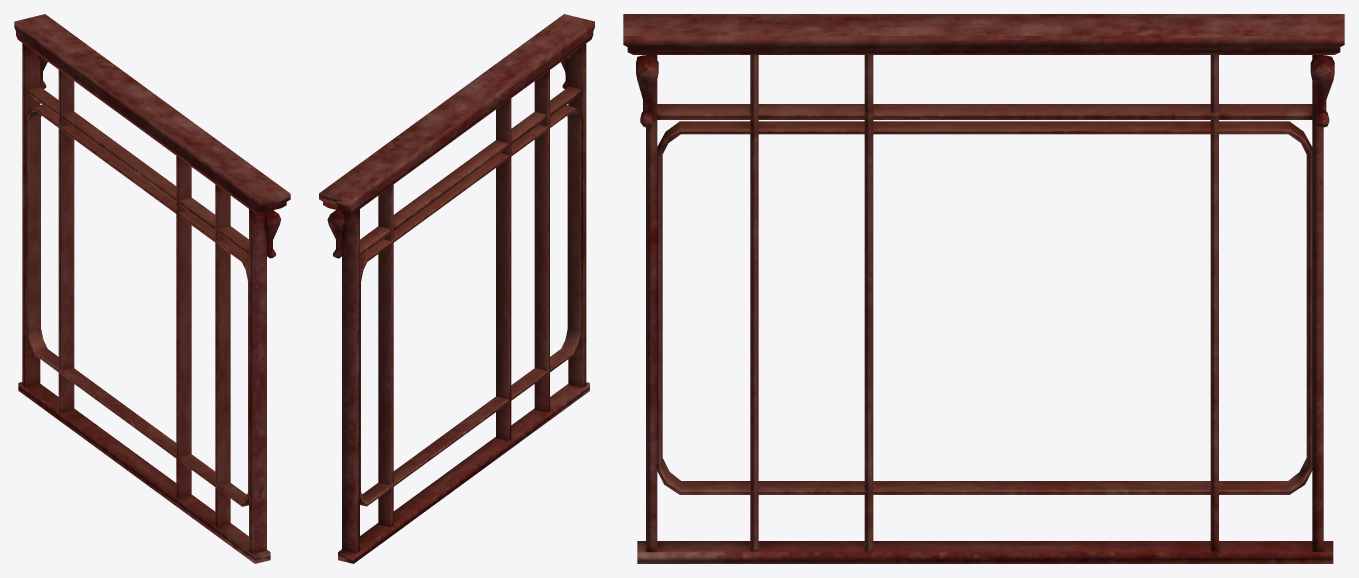
Rendered from Arch_Railing_Balcony.glb.
3 views of the same model, side by side, from view 1: azimuth 30°, elevation 25°; view 2: azimuth 150°, elevation 25°; view 3: azimuth 270°, elevation 25° (orthographic). The views are drawn at different scales.
Parts seen in each view (by area): view 1: tripo_node_020a03e5-a0de-4be0-b4b4-ddb2006f63cd; view 2: tripo_node_020a03e5-a0de-4be0-b4b4-ddb2006f63cd; view 3: tripo_node_020a03e5-a0de-4be0-b4b4-ddb2006f63cd.
Part boxes in pixels (x1,y1,x2,y2): tripo_node_020a03e5-a0de-4be0-b4b4-ddb2006f63cd: (14,14,290,563); tripo_node_020a03e5-a0de-4be0-b4b4-ddb2006f63cd: (319,14,594,563); tripo_node_020a03e5-a0de-4be0-b4b4-ddb2006f63cd: (623,14,1344,563).
Bounding box in the file's own units: 0.1055 × 1.2 × 1.46.
1 material, 1 textured.
